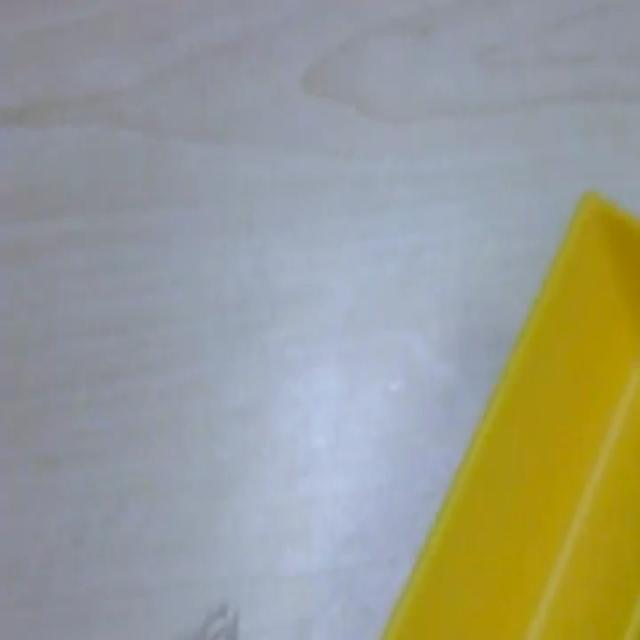yellow_block: (380, 187, 638, 637)
